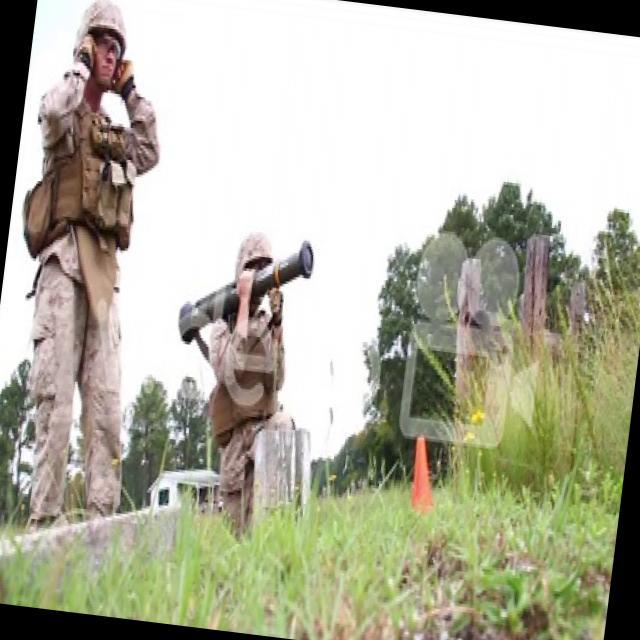rocket: (175, 229, 312, 363)
